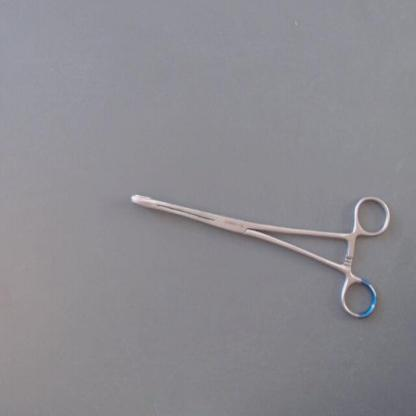Sponge Forceps: (124, 185, 394, 325)
